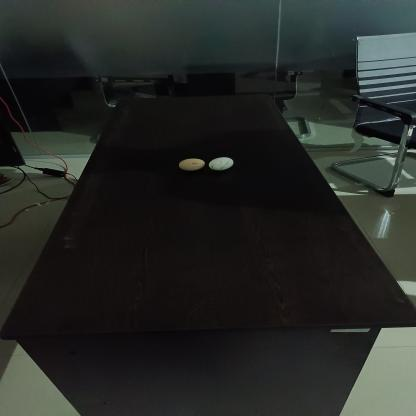egg: (211, 155, 236, 171), (180, 158, 206, 172)
